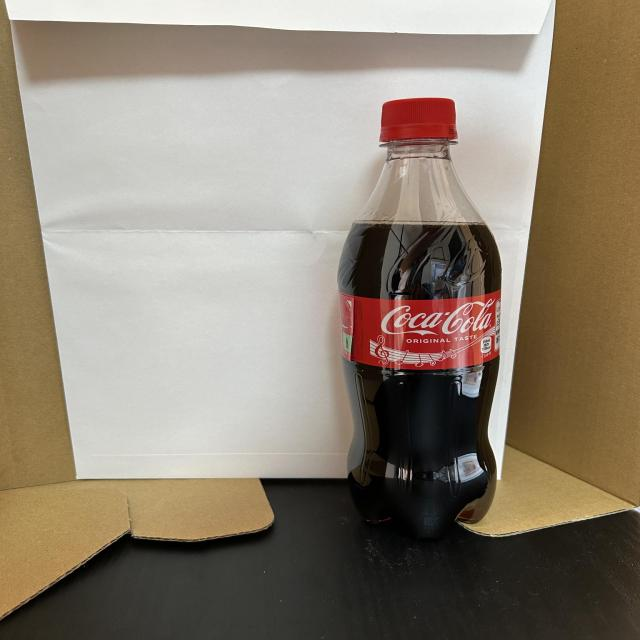high: (338, 98, 502, 538)
